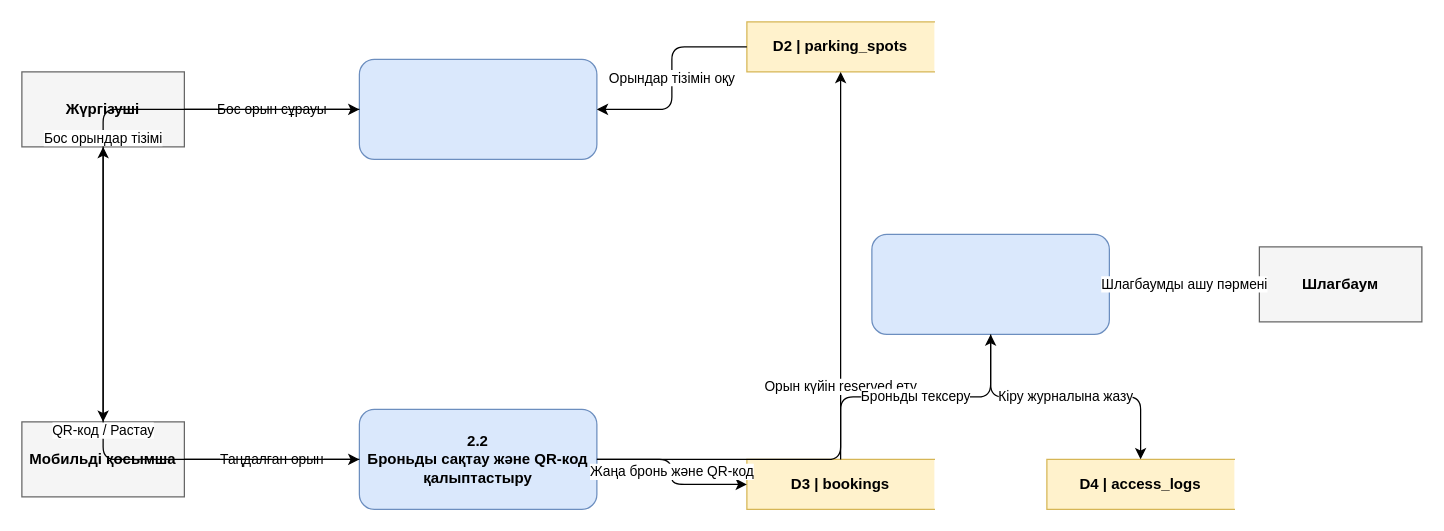
The diagram is 1444 pixels wide and 531 high, and some of its shapes have lost their labels. The shapes that lost their labels are listed below. From the top down, each one's centre as x and y in pixels, then its label:
the point at 477,108: 2.1 Бос орындарды іздеу және тексеру
the point at 990,283: 2.3 QR-кодты тексеріп, кіруге рұқсат беру
